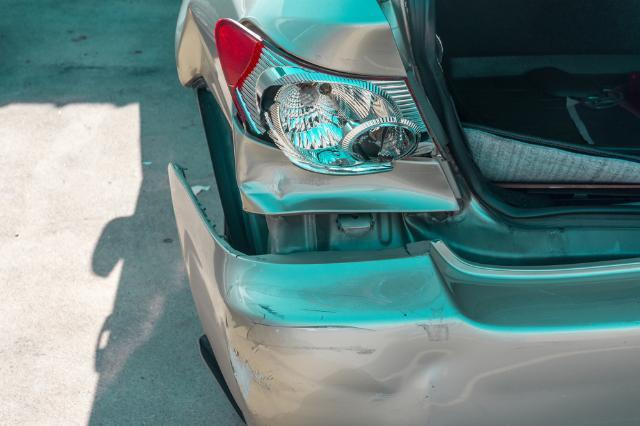crack: (402, 244, 417, 259)
dent: (242, 145, 452, 208), (363, 338, 471, 426)
dislocated part: (165, 51, 640, 426)
lamp broken: (213, 17, 445, 177)
scratch: (220, 297, 376, 403)
